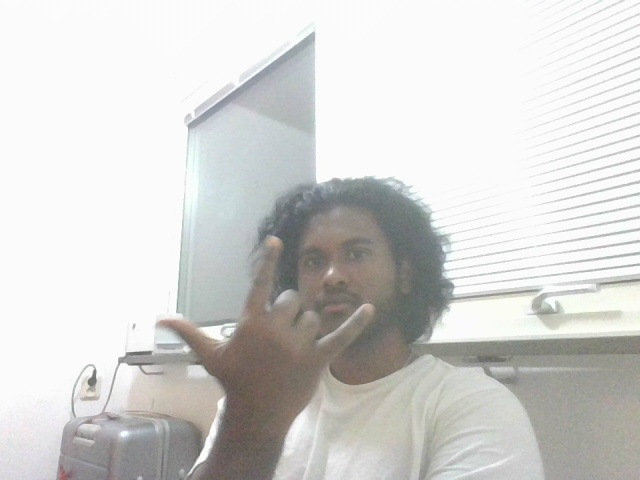I Love You: (150, 227, 383, 460)
